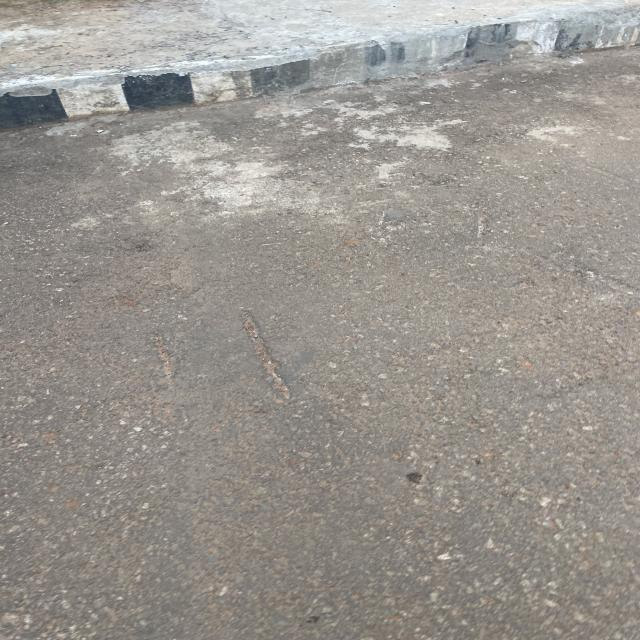D40: (140, 297, 300, 443)
